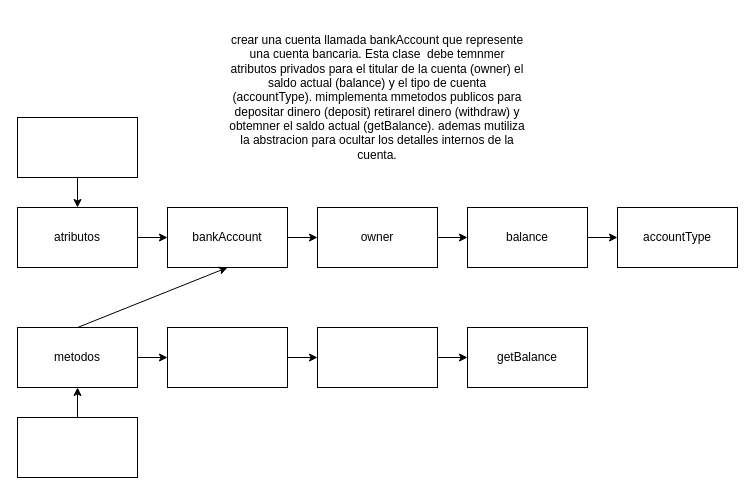
Image size: 755x495. Some labels were removed from this diagram. Here are the shapes that lost their labels. From the top down, the centre of each, then its label:
At (x=77, y=147): "privados".
At (x=227, y=357): "deposit".
At (x=377, y=357): "withdraw".
At (x=77, y=447): "publicos".
